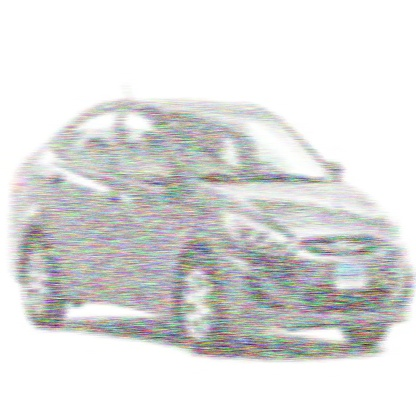Vehicle: (4, 78, 414, 368)
